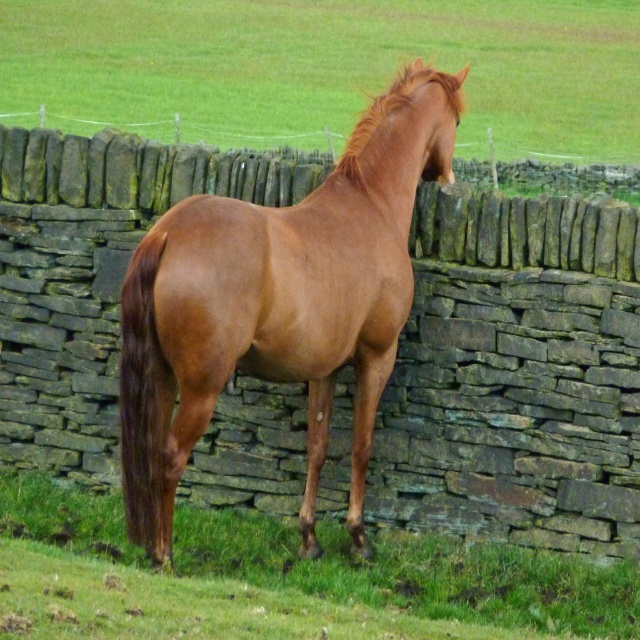Horse: (116, 52, 472, 574)
